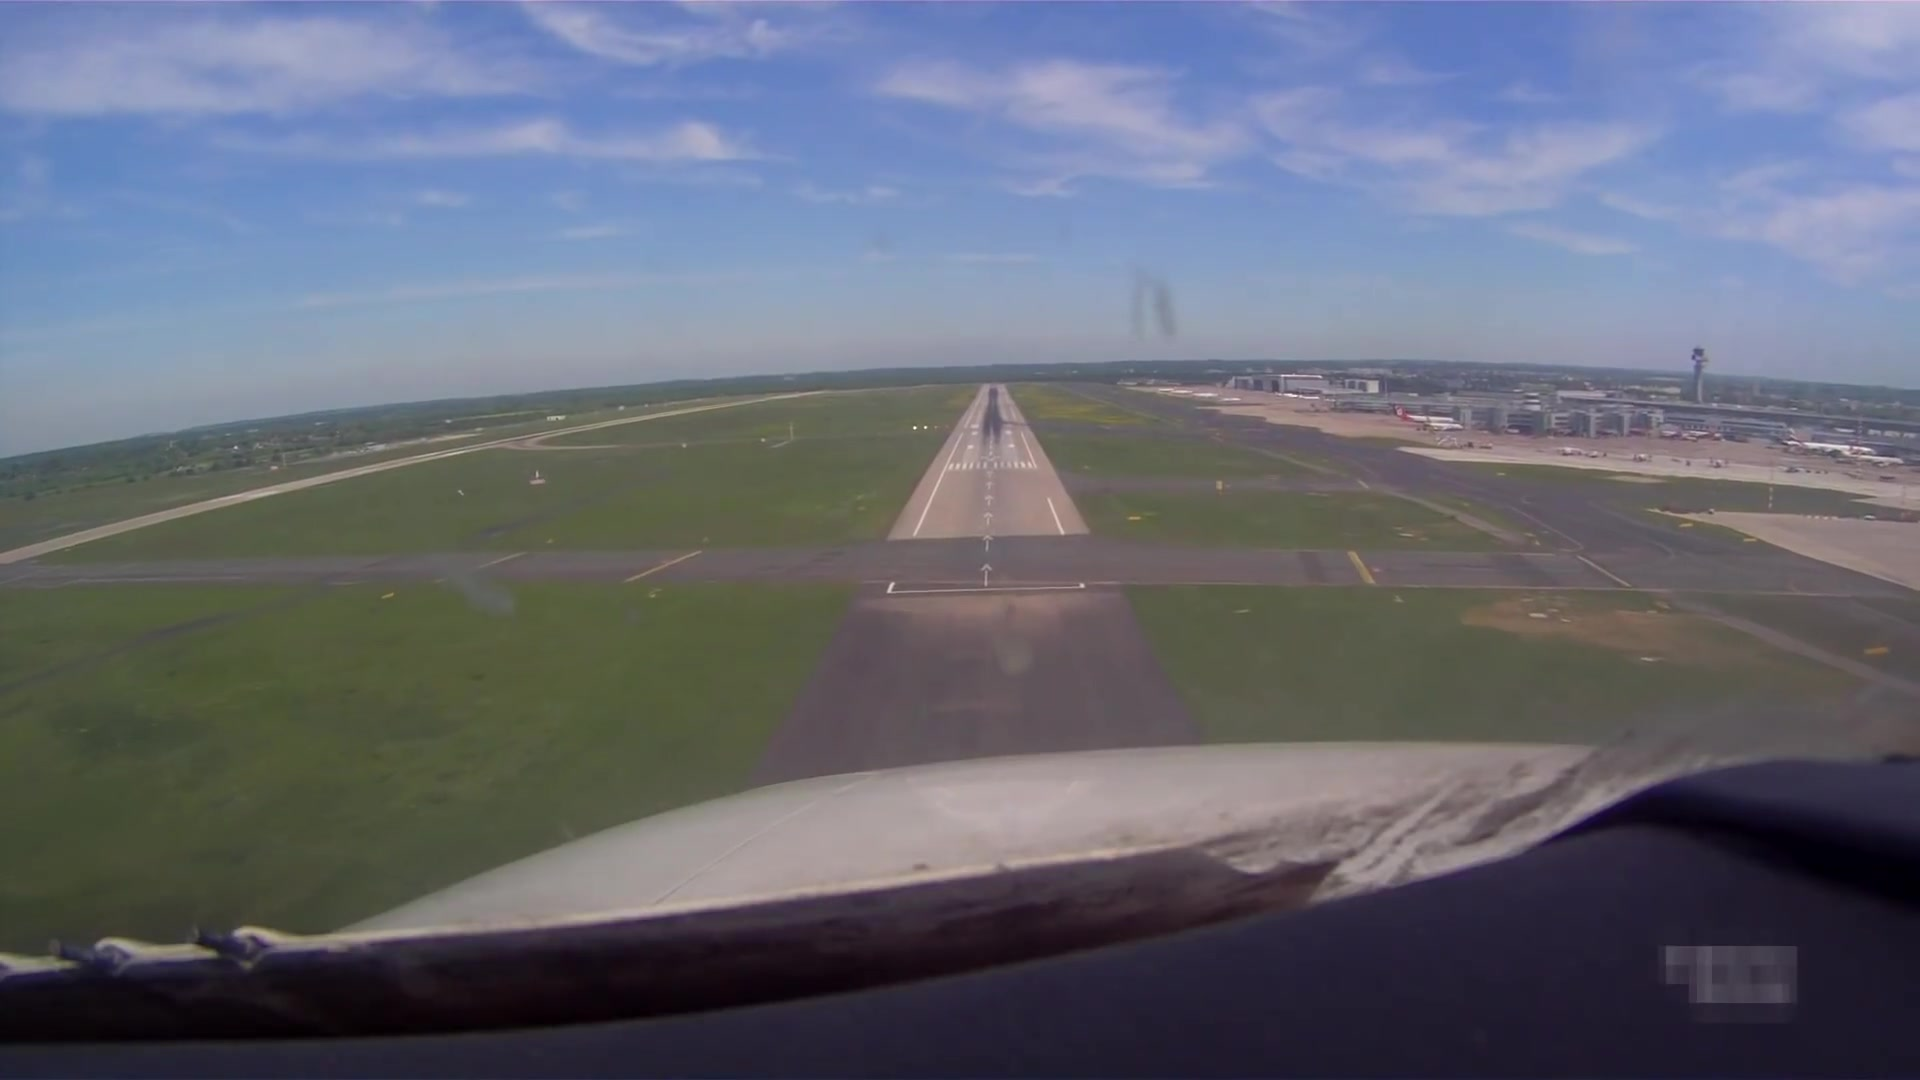entrance: (943, 460, 1042, 471)
runway: (878, 382, 1097, 541)
